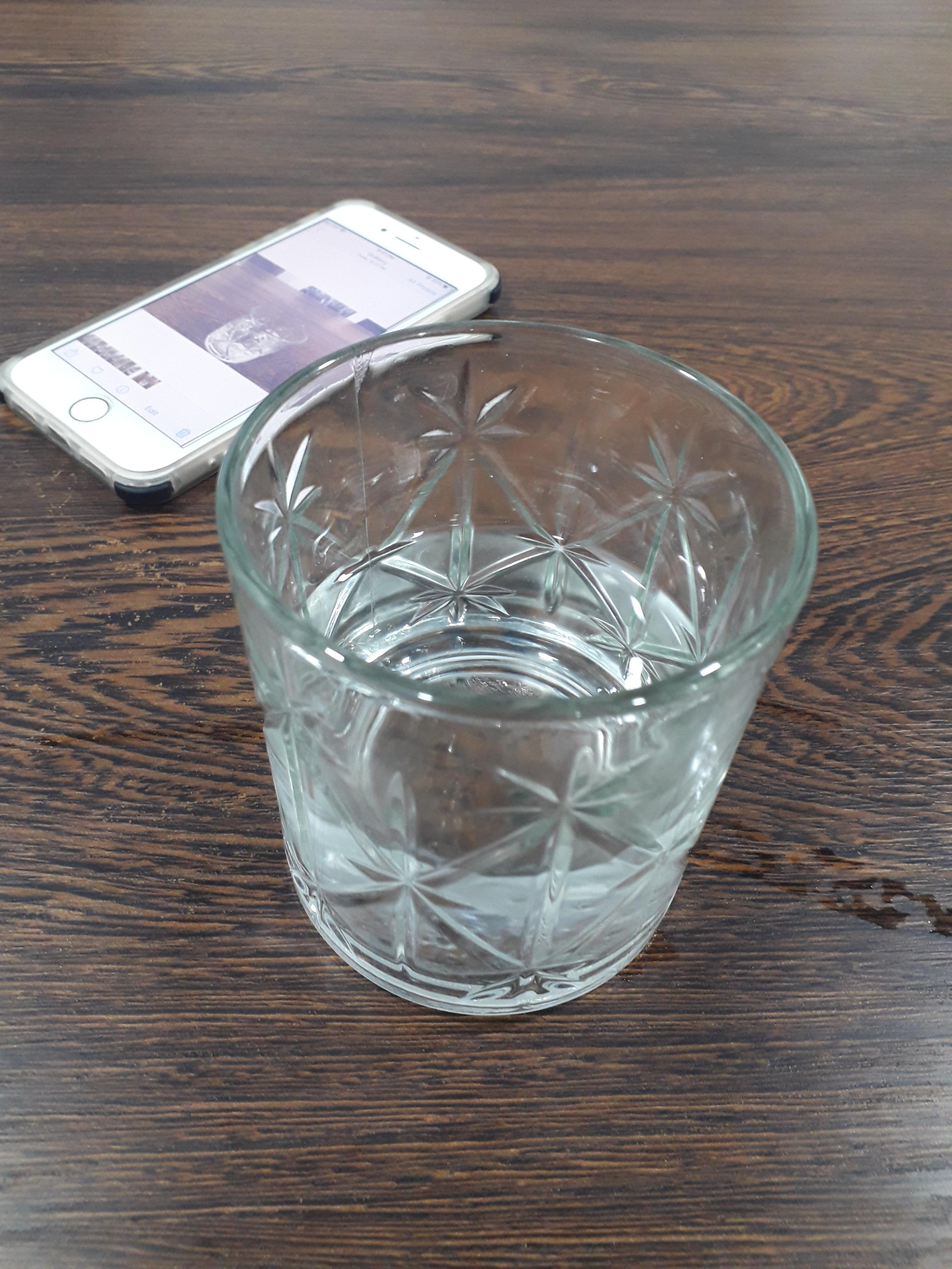glass-normal: (212, 312, 824, 1030)
